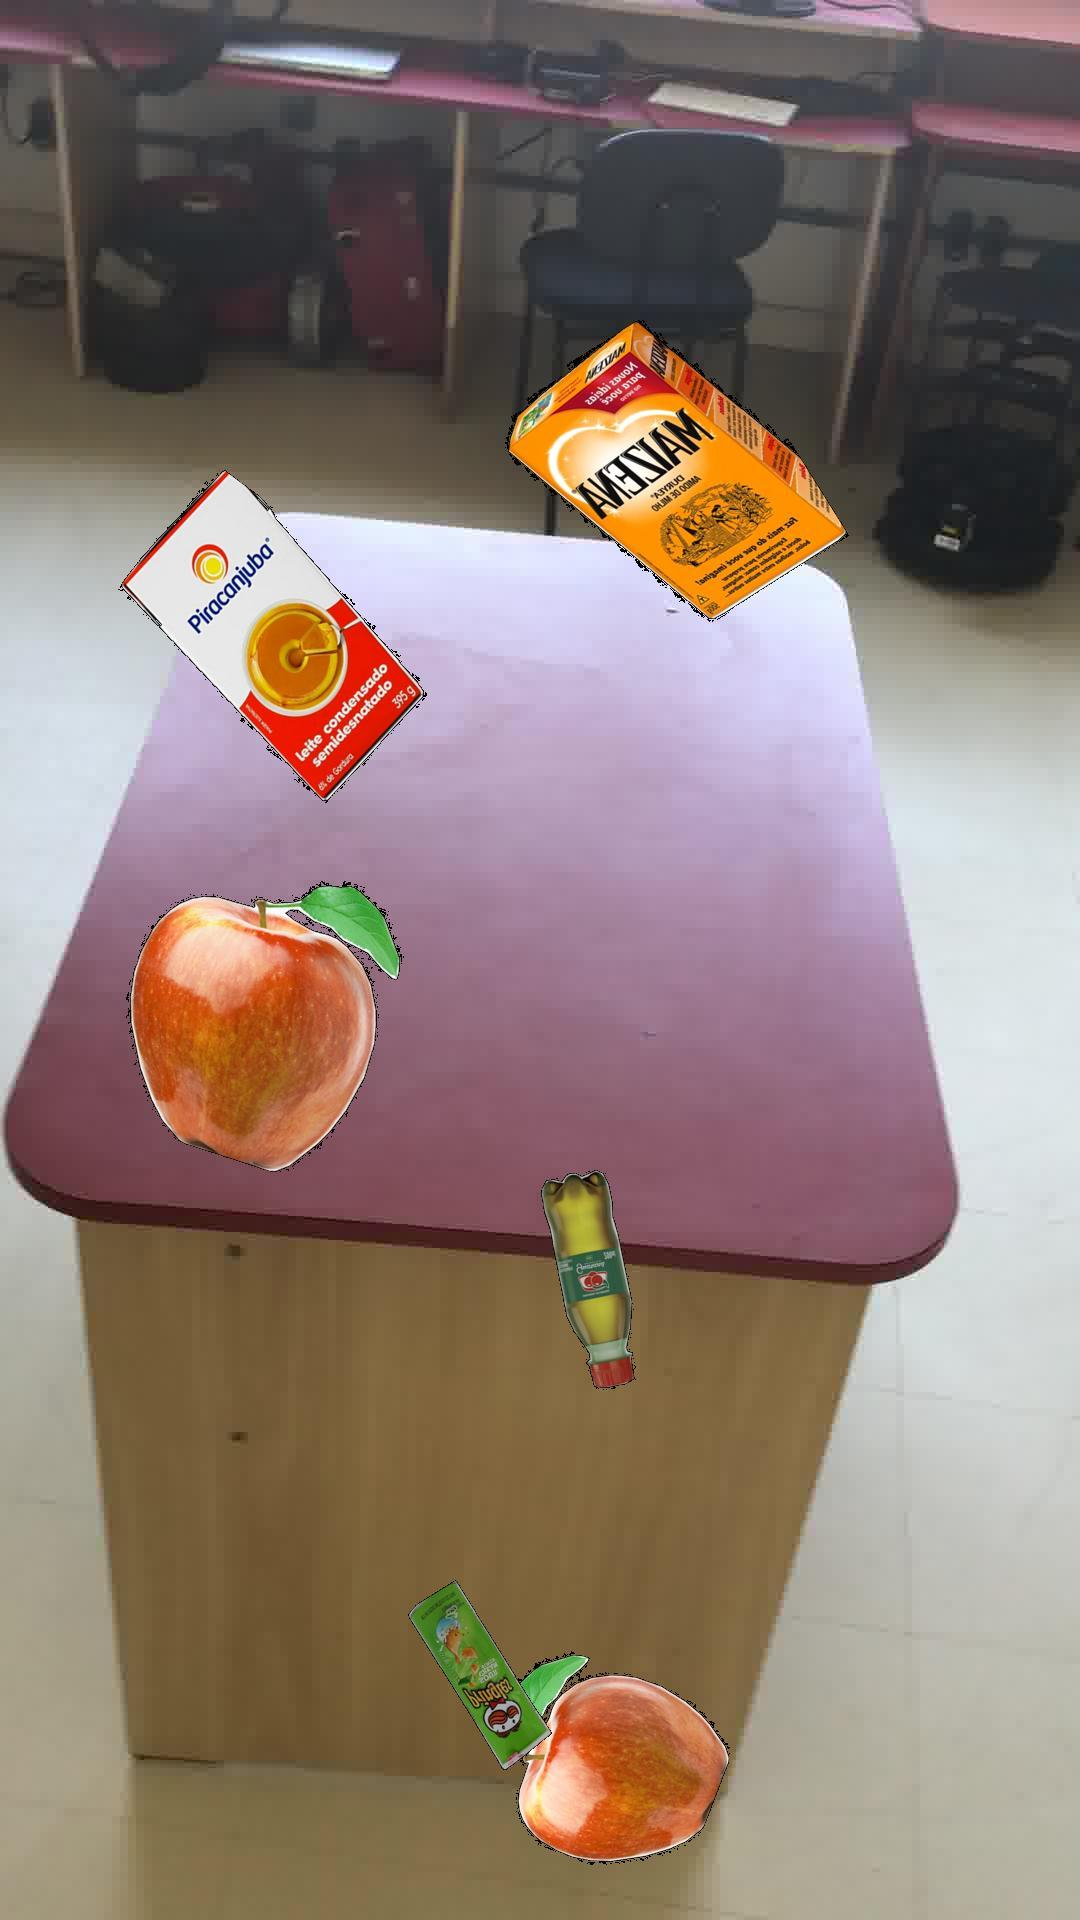apple: (125, 880, 401, 1171), (514, 1650, 728, 1862)
guarana: (539, 1168, 633, 1387)
pringles: (406, 1578, 550, 1768)
